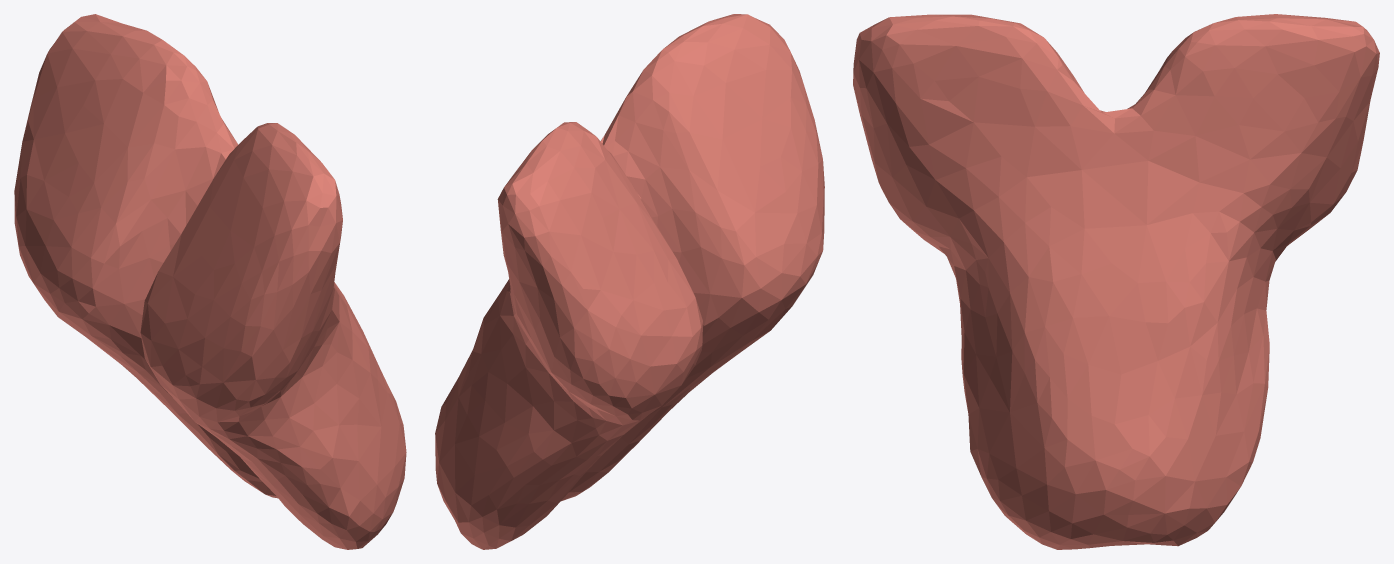
The picture shows the model from 3 angles, left to right: view 1: azimuth 30°, elevation 25°; view 2: azimuth 150°, elevation 25°; view 3: azimuth 270°, elevation 25°; orthographic projection. The views are drawn at different scales.
Visible parts, largest first — view 1: 946.obj; view 2: 946.obj; view 3: 946.obj.
Part boxes in pixels (<box>): 946.obj: <box>14,14,406,549</box>; 946.obj: <box>435,14,824,549</box>; 946.obj: <box>853,14,1379,549</box>.
Bounding box in the file's own units: 1022 × 1559 × 1567.
